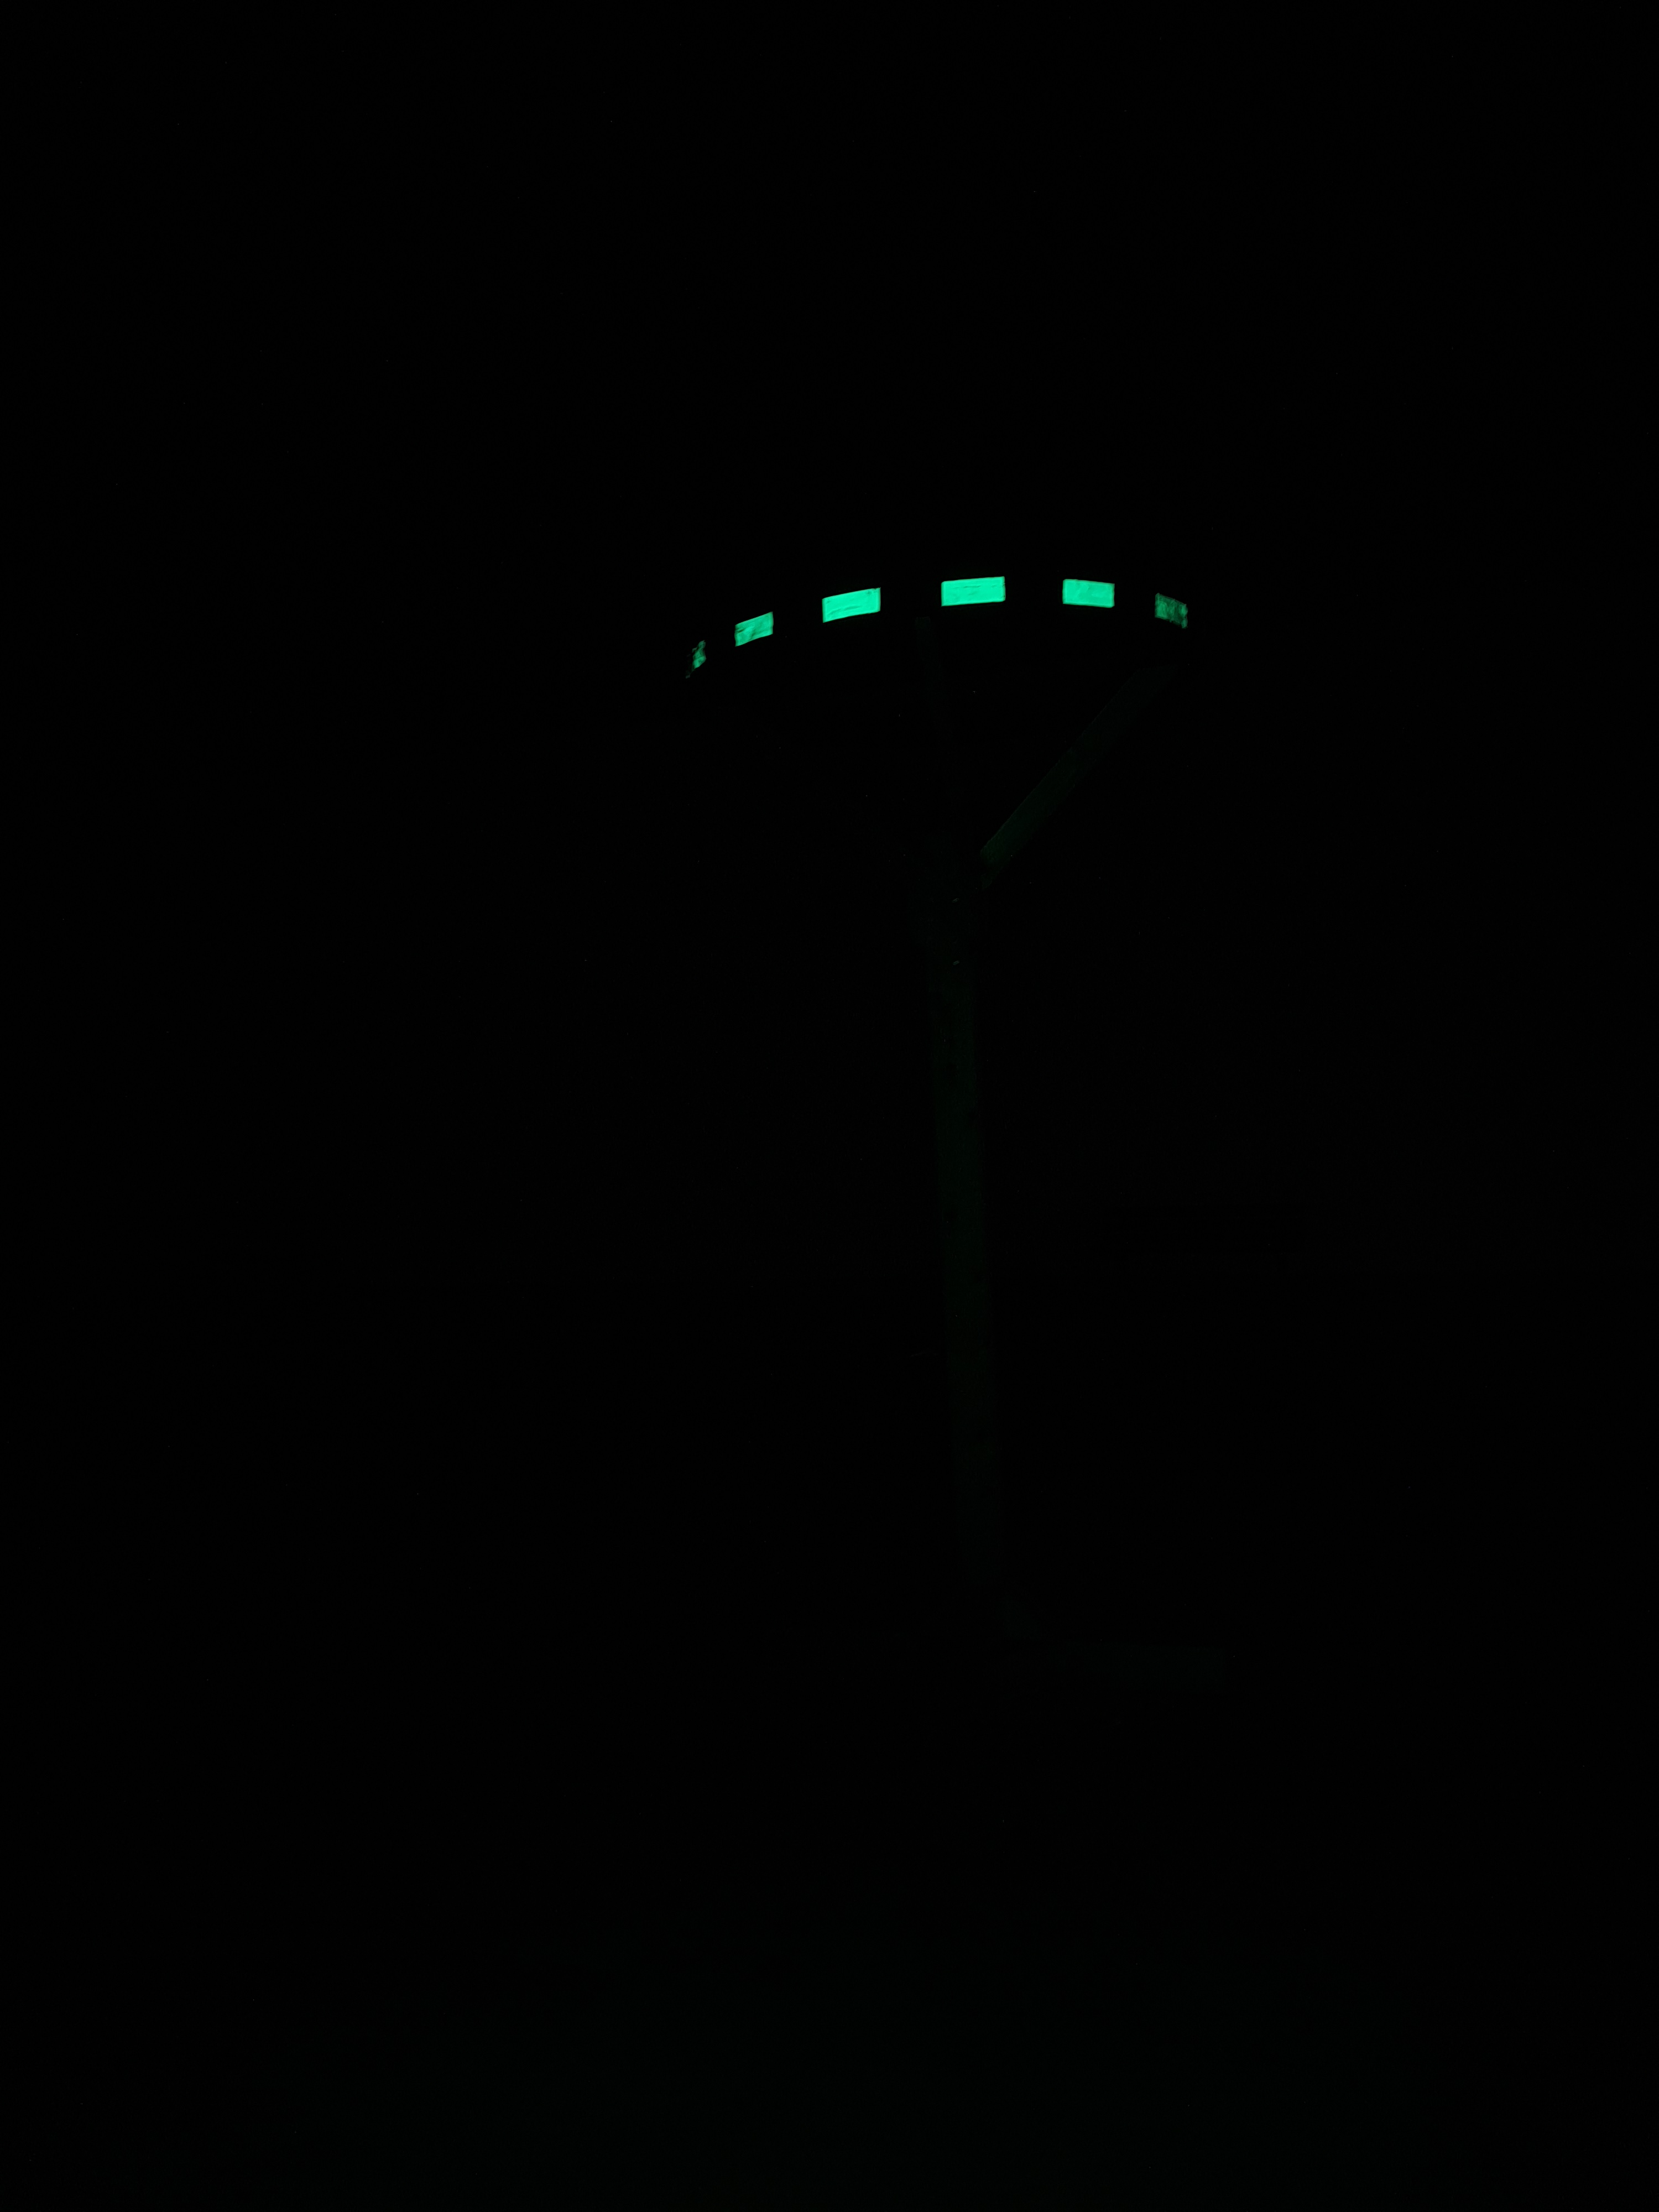hoop: (674, 570, 1197, 671)
